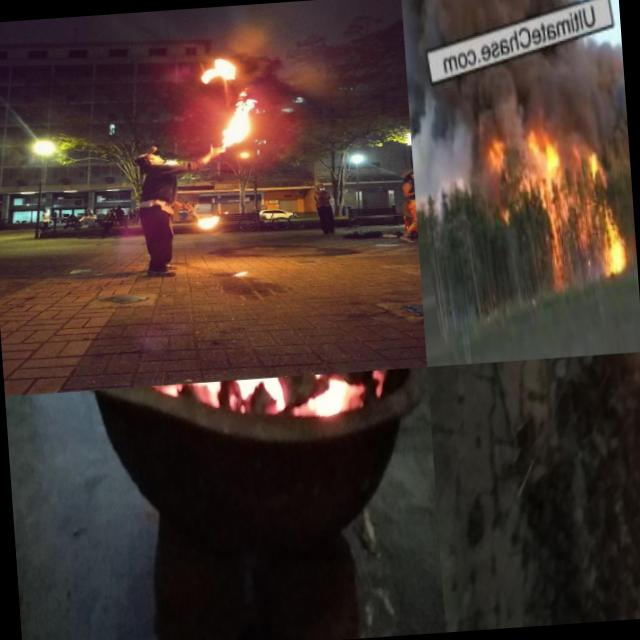fire: (208, 88, 260, 148), (546, 182, 574, 288), (190, 44, 246, 87), (600, 205, 631, 272), (526, 134, 558, 180), (187, 204, 228, 239), (584, 147, 609, 185), (490, 138, 507, 172)
smoke: (549, 44, 628, 146), (409, 105, 484, 196), (475, 64, 554, 136)
